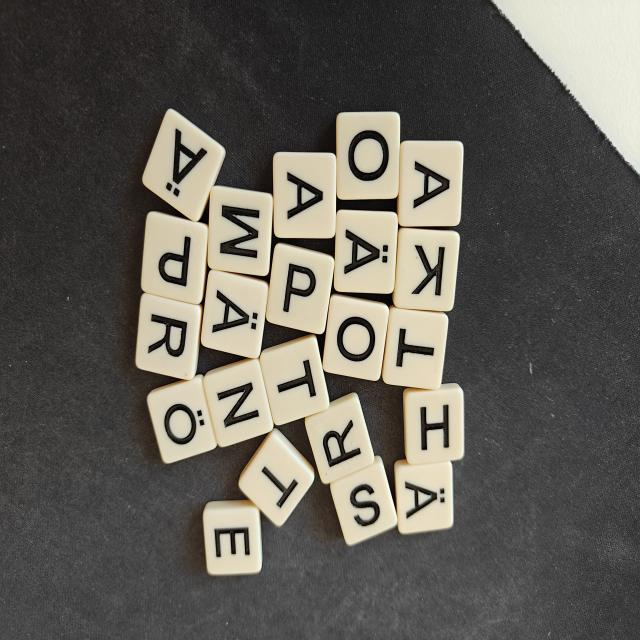a: (397, 141, 463, 227), (273, 152, 336, 238)
a_dot: (142, 109, 225, 221), (201, 270, 268, 358), (334, 210, 398, 294), (394, 460, 453, 534)
e: (203, 500, 262, 575)
h: (403, 383, 464, 464)
k: (393, 228, 459, 311)
m: (208, 186, 273, 275)
n: (203, 359, 273, 447)
o: (323, 294, 389, 381), (336, 112, 400, 200)
o_dot: (147, 375, 217, 463)
p: (266, 243, 334, 334), (141, 211, 208, 303)
r: (305, 392, 374, 483), (136, 293, 202, 379)
s: (330, 456, 397, 545)
t: (239, 428, 314, 526), (259, 334, 330, 425), (382, 306, 448, 389)
